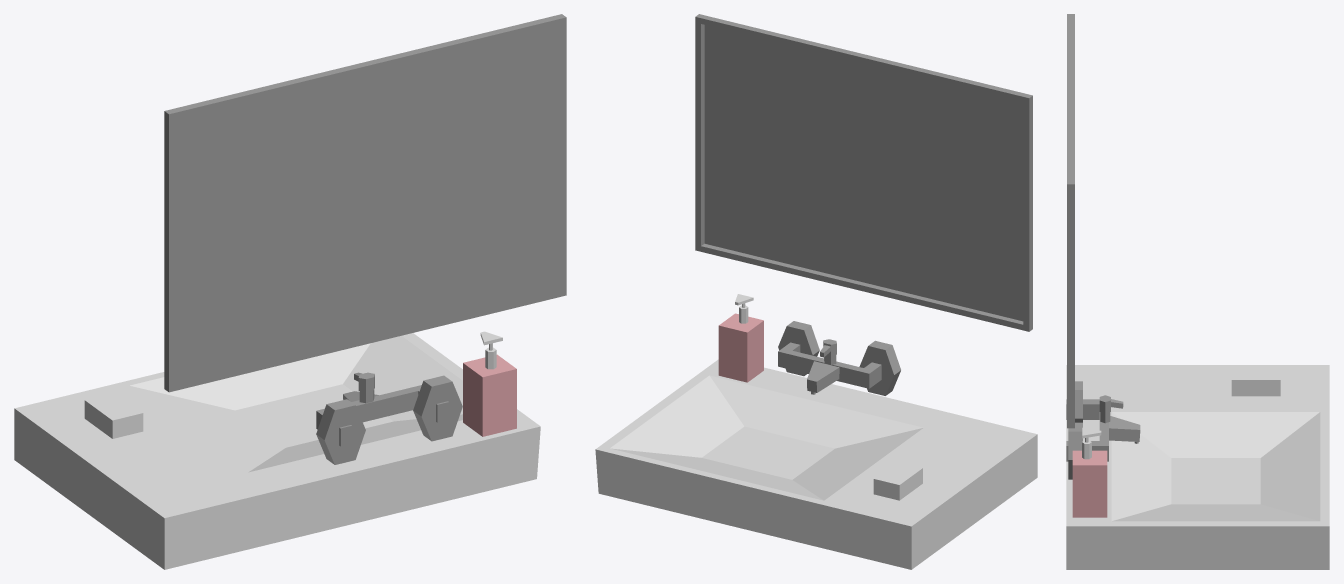
File: LavamanosConJabones.fbx
3 renders of one model, left to right at view 1: azimuth 30°, elevation 25°; view 2: azimuth 150°, elevation 25°; view 3: azimuth 270°, elevation 25°, orthographic. The views are drawn at different scales.
Parts seen in each view (by area): view 1: mirror.001, sink.001, tap2.001, liquid soap.001, soap.001; view 2: mirror.001, sink.001, tap2.001, liquid soap.001, soap.001; view 3: sink.001, mirror.001, tap2.001, liquid soap.001, soap.001.
Part boxes in pixels (x1,y1,x2,y2): mirror.001: (164, 14, 566, 392); sink.001: (14, 333, 540, 569); tap2.001: (316, 372, 462, 464); liquid soap.001: (463, 331, 516, 436); soap.001: (84, 392, 143, 438); mirror.001: (695, 14, 1032, 331); sink.001: (595, 359, 1037, 569); tap2.001: (778, 321, 900, 395); liquid soap.001: (718, 294, 763, 382); soap.001: (873, 461, 922, 500); sink.001: (1066, 365, 1329, 569); mirror.001: (1067, 14, 1074, 428); tap2.001: (1066, 381, 1140, 479); liquid soap.001: (1072, 427, 1107, 517); soap.001: (1231, 367, 1280, 396).
Bounding box in the file's own units: 103 × 111 × 66.6.
